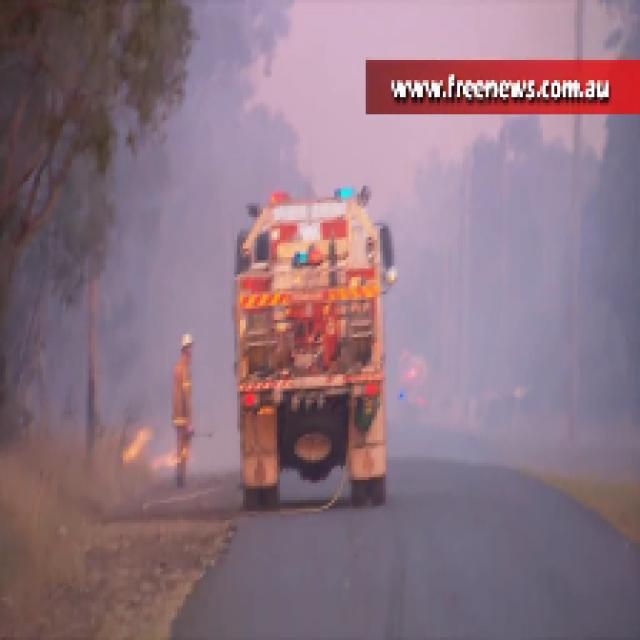Fire: (120, 423, 174, 471)
Smoke: (434, 148, 614, 428), (137, 128, 223, 308)
